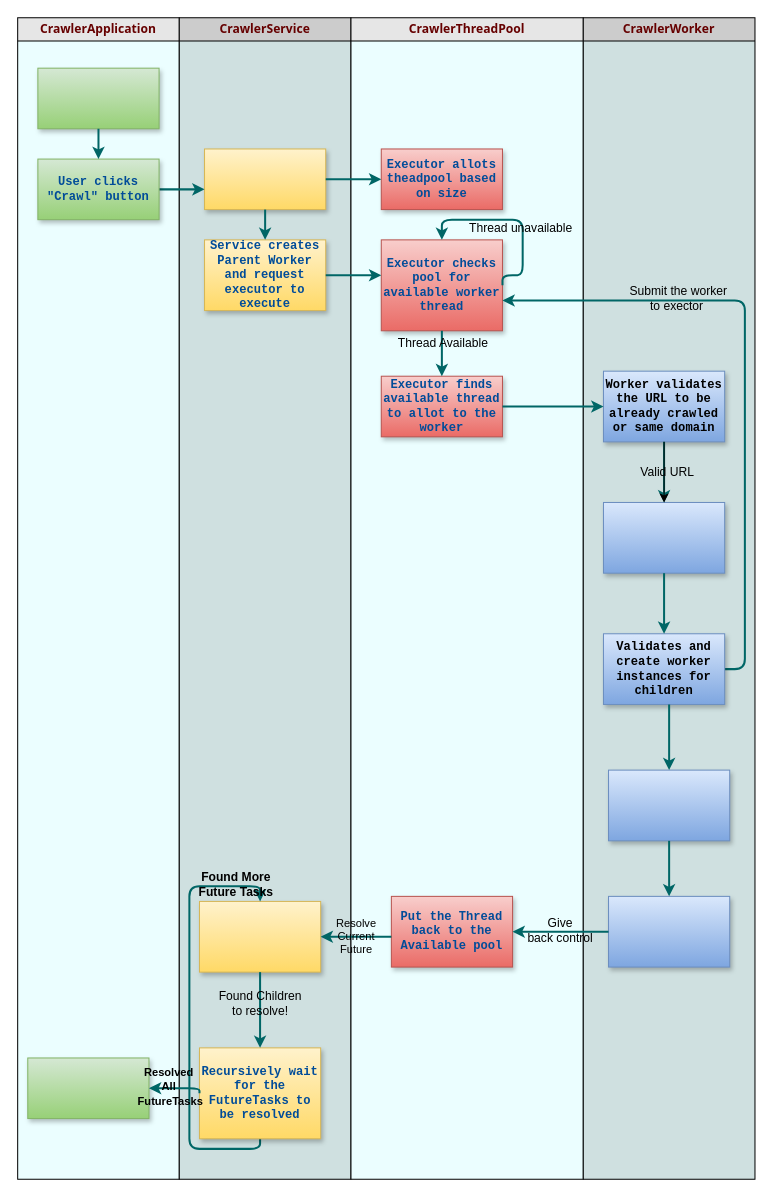
Some shapes in this 773 by 1197 pixel diagram are drawn without their labels. Each missing label, with the centre of its shape:
Complete its execution and move to Runnable state: (669,932)
Construct Hierarchical Map from Crawled URL: (260,937)
Construct TreeStructure and resolve BiFunction: (89,1089)
Create Future (Resolution) Tasks for the children tasks: (669,806)
Service Receives Crawling Request: (265,180)
User enters URL and depth to crawl: (99,99)
Worker crawls the URL and finds children URLs: (664,538)
